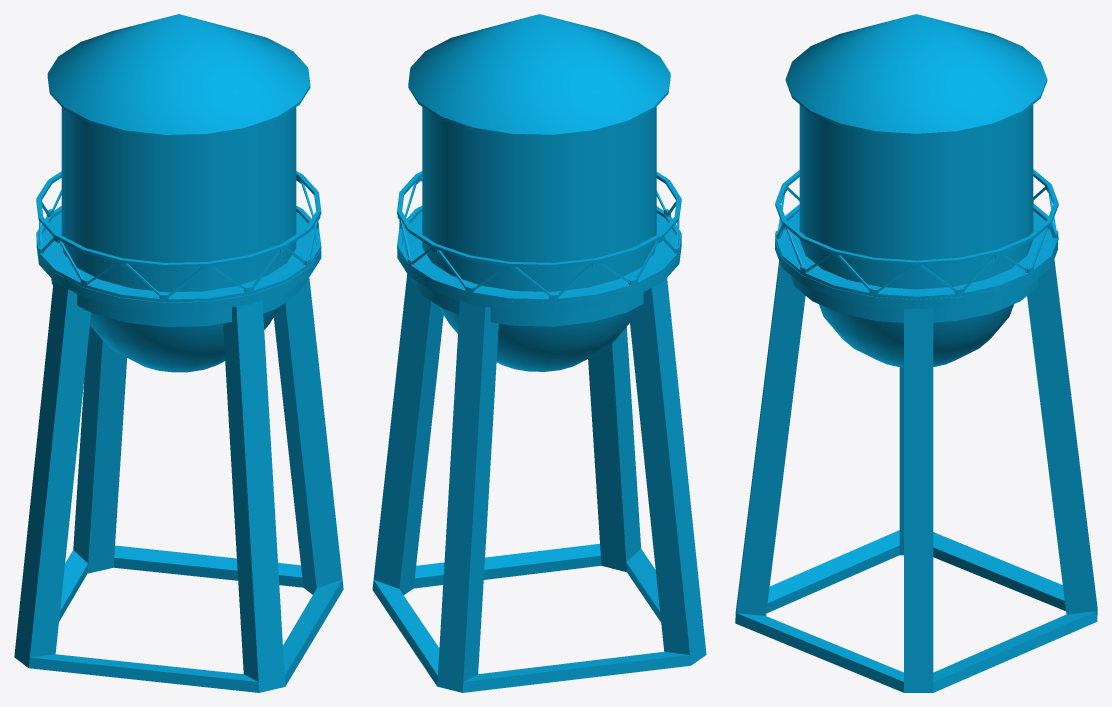
Rendered from Water_Tower_02_Lod0.fbx.
3 views of the same model, side by side, from view 1: azimuth 30°, elevation 25°; view 2: azimuth 150°, elevation 25°; view 3: azimuth 270°, elevation 25° (orthographic).
Visible parts, largest first — view 1: Water_Tower_02_Lod0; view 2: Water_Tower_02_Lod0; view 3: Water_Tower_02_Lod0.
Boxes of the visible parts, x1,y1,x2,y2 form: Water_Tower_02_Lod0: (14,14,343,692); Water_Tower_02_Lod0: (372,14,706,692); Water_Tower_02_Lod0: (735,14,1097,692).
Bounding box in the file's own units: 602 × 1109 × 602.
